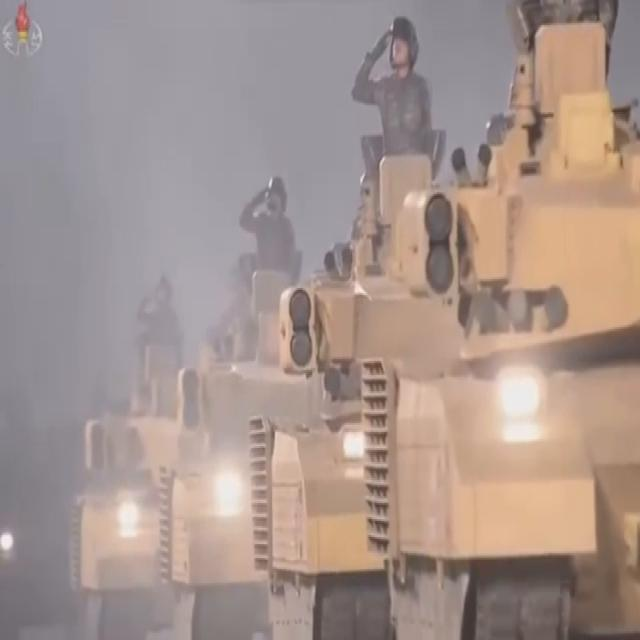north tank: (363, 53, 633, 640), (248, 158, 459, 640), (163, 265, 315, 640)
